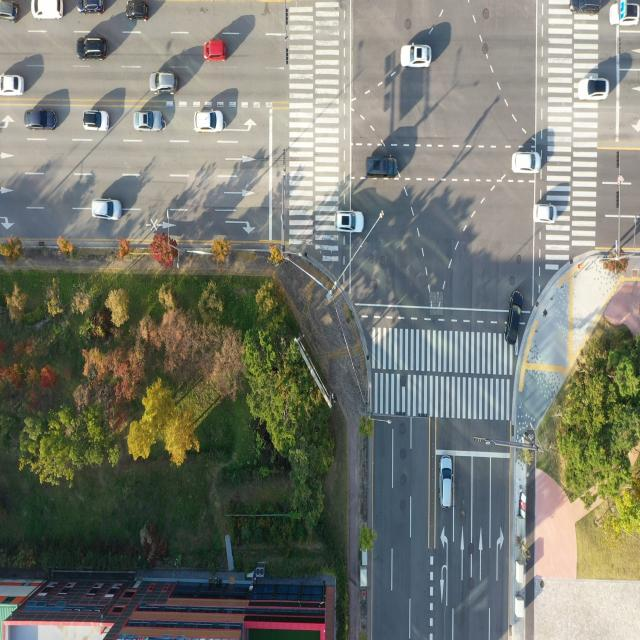car: (503, 288, 527, 347), (194, 105, 227, 134), (576, 72, 610, 100), (511, 148, 542, 177), (150, 67, 180, 96), (612, 0, 640, 31), (441, 456, 456, 511), (24, 108, 58, 132), (364, 154, 396, 178), (203, 35, 229, 64), (401, 44, 430, 70), (76, 36, 106, 61), (93, 198, 122, 222), (0, 71, 27, 96), (531, 201, 556, 228), (134, 110, 164, 132), (84, 108, 109, 133), (126, 0, 154, 22), (76, 0, 110, 18), (337, 211, 362, 233), (32, 0, 64, 16), (572, 0, 601, 15), (0, 0, 20, 21)
